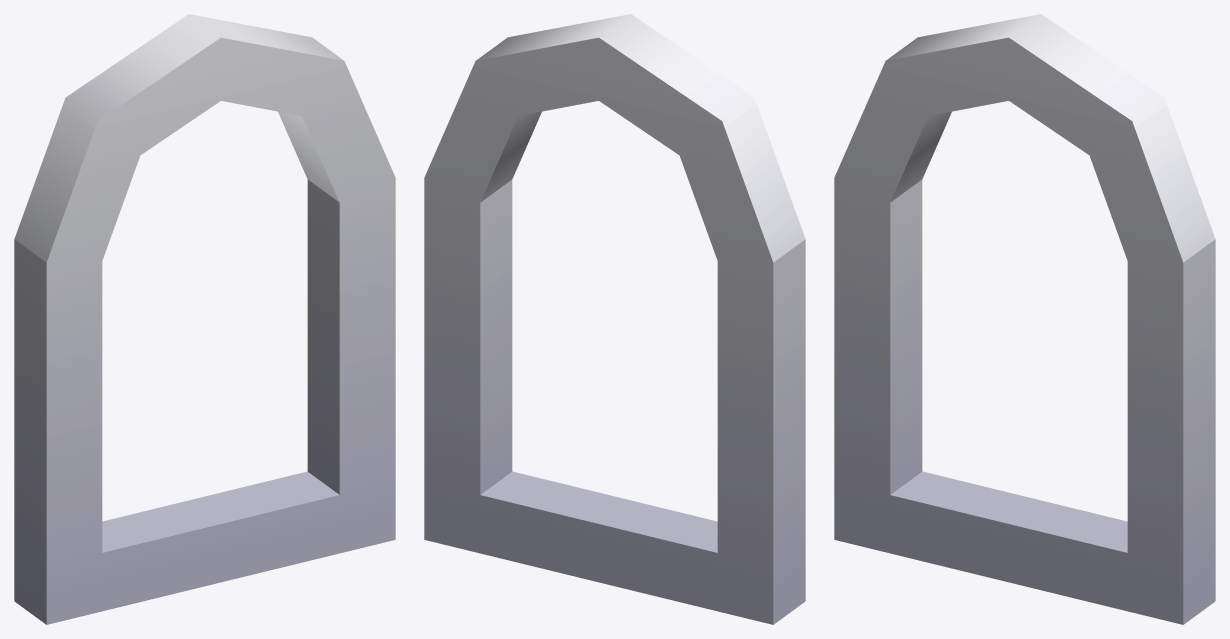
The model's file is kenney-modular-buildings-window-white-round-wide.glb.
3 views of the same model, side by side, from view 1: azimuth 30°, elevation 25°; view 2: azimuth 150°, elevation 25°; view 3: azimuth 330°, elevation 25° (orthographic).
Visible parts, largest first — view 1: window-white-round-wide; view 2: window-white-round-wide; view 3: window-white-round-wide.
Boxes of the visible parts, x1,y1,x2,y2 form: window-white-round-wide: [14, 14, 395, 624]; window-white-round-wide: [424, 14, 805, 624]; window-white-round-wide: [834, 14, 1215, 624].
Bounding box in the file's own units: 0.3125 × 0.4662 × 0.05.
1 material, 1 textured.
